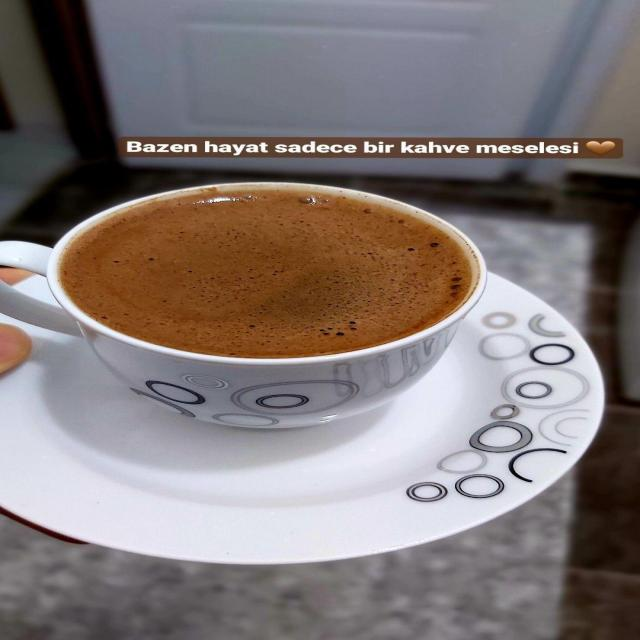cup-handle: (1, 178, 494, 436)
